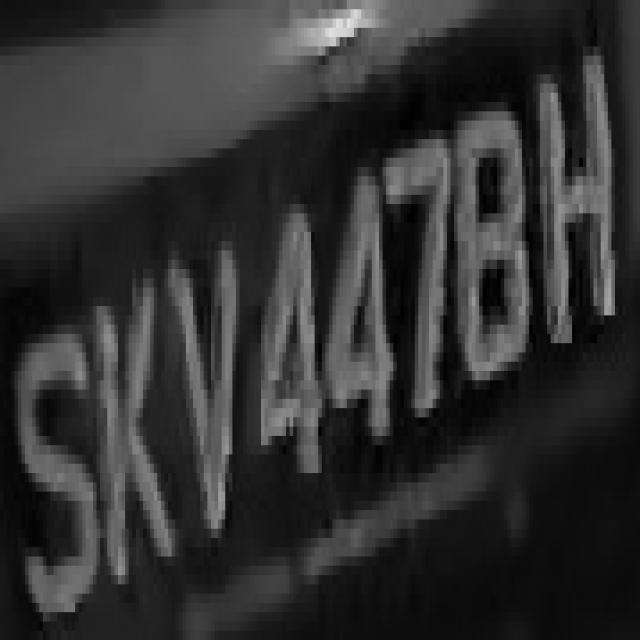4: (229, 149, 325, 510), (315, 111, 393, 501)
7: (372, 112, 458, 446)
8: (447, 65, 533, 399)
H: (529, 37, 626, 362)
K: (82, 250, 172, 622)
S: (7, 269, 100, 640)
V: (161, 213, 250, 548)
